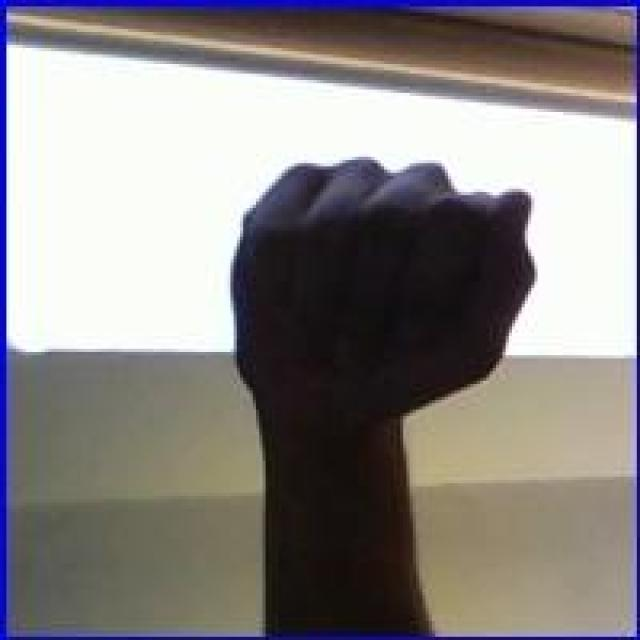A: (222, 149, 540, 443)
